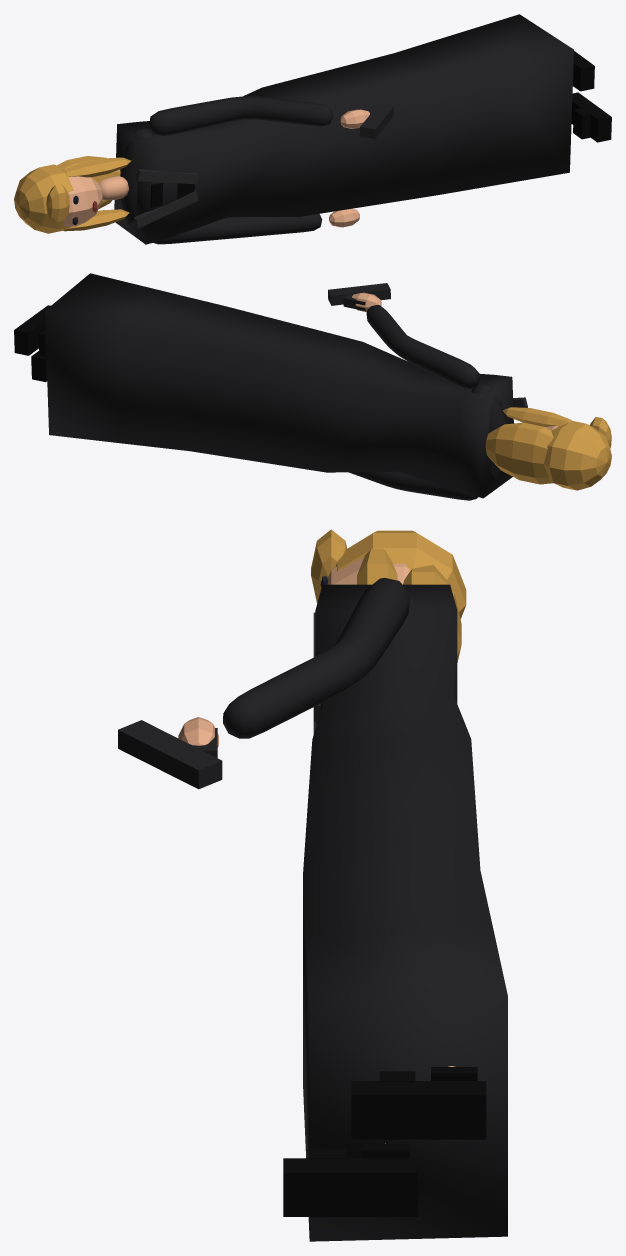
The model's file is aya_down.obj.
The picture shows the model from 3 angles, top to bottom: view 1: azimuth 30°, elevation 25°; view 2: azimuth 150°, elevation 25°; view 3: azimuth 270°, elevation 25°; orthographic projection. The views are drawn at different scales.
Visible parts, largest first — view 1: coat.010, coat_sleeves.010, hair_cap.010, head.010, soleL.010, lock.021, bangs.010, lapelL.010, pistol.010, lapelR.010, soleR.010, lock.020 (+6 smaller); view 2: coat.010, coat_sleeves.010, hair_cap.010, hair_back.010, soleR.010, lock.021, pistol.010, soleL.010, handR.010; view 3: coat.010, coat_sleeves.010, soleR.010, soleL.010, pistol.010, hair_cap.010, bangs.010, lock.021, hair_back.010.
Part boxes in pixels (box(x1,y1,x2,y2)): coat.010: box(114, 14, 573, 244); coat_sleeves.010: box(120, 96, 333, 244); hair_cap.010: box(14, 164, 73, 233); head.010: box(64, 168, 102, 227); soleL.010: box(571, 92, 611, 142); lock.021: box(63, 157, 131, 177); bangs.010: box(46, 184, 69, 225); lapelL.010: box(134, 190, 198, 228); pistol.010: box(359, 104, 393, 138); lapelR.010: box(135, 169, 199, 184); soleR.010: box(573, 51, 594, 91); lock.020: box(63, 209, 129, 231); coat.010: box(45, 273, 513, 498); coat_sleeves.010: box(349, 305, 507, 500); hair_cap.010: box(543, 421, 611, 490); hair_back.010: box(485, 422, 553, 484); soleR.010: box(14, 305, 50, 355); lock.021: box(502, 407, 571, 426); pistol.010: box(328, 283, 390, 305); soleL.010: box(31, 351, 47, 382); handR.010: box(352, 292, 381, 311); coat.010: box(303, 584, 507, 1241); coat_sleeves.010: box(223, 578, 414, 738); soleR.010: box(351, 1081, 486, 1139); soleL.010: box(283, 1158, 417, 1216); pistol.010: box(118, 720, 222, 789); hair_cap.010: box(336, 530, 466, 618); bangs.010: box(311, 529, 346, 602); lock.021: box(357, 548, 397, 584); hair_back.010: box(403, 565, 461, 662).
Size of the model in its own units: 1.84 by 0.4588 by 0.5496.
